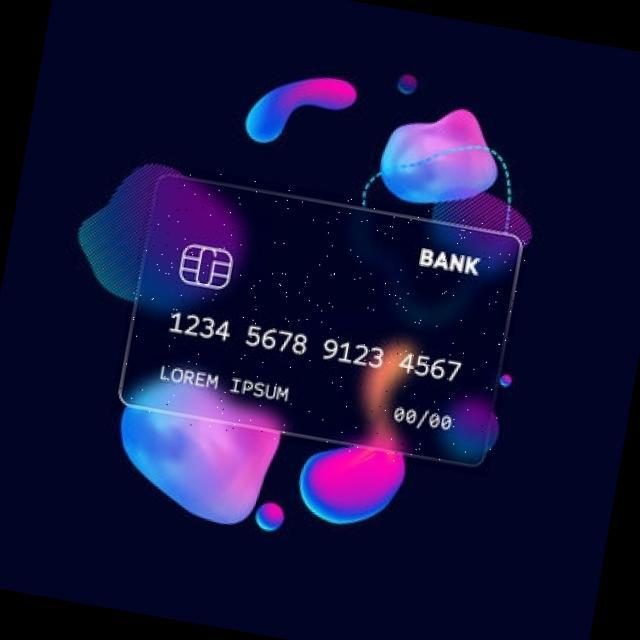payment_card: (117, 171, 525, 470)
